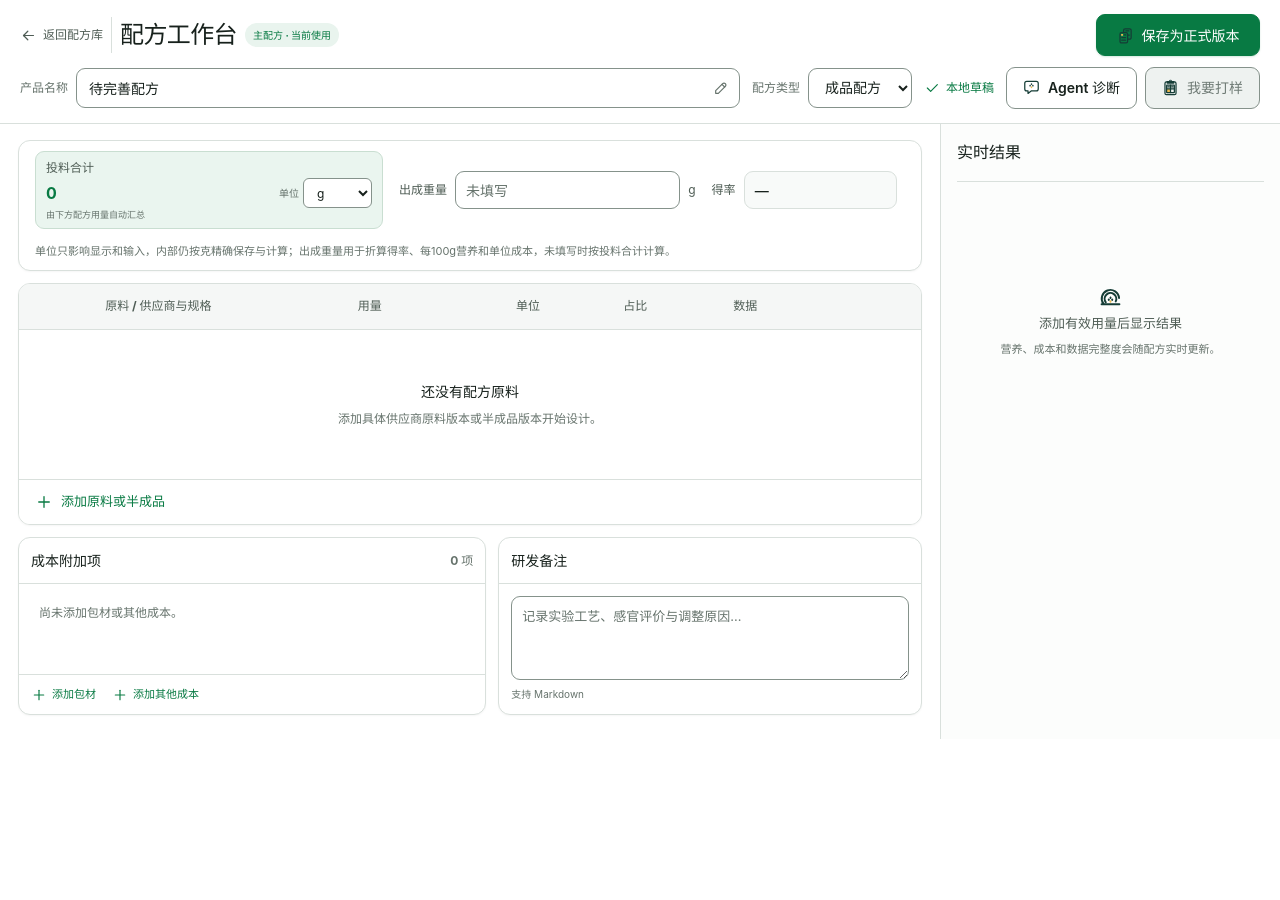
Test case: RecipeWorkbench formal versions › keeps an incomplete draft editable and explains every blocking issue
Expected: the field showing "待完善配方" is shown, [76,68,740,108]
Click the button "保存为正式版本": point(1178, 35) [1096,14,1260,56]
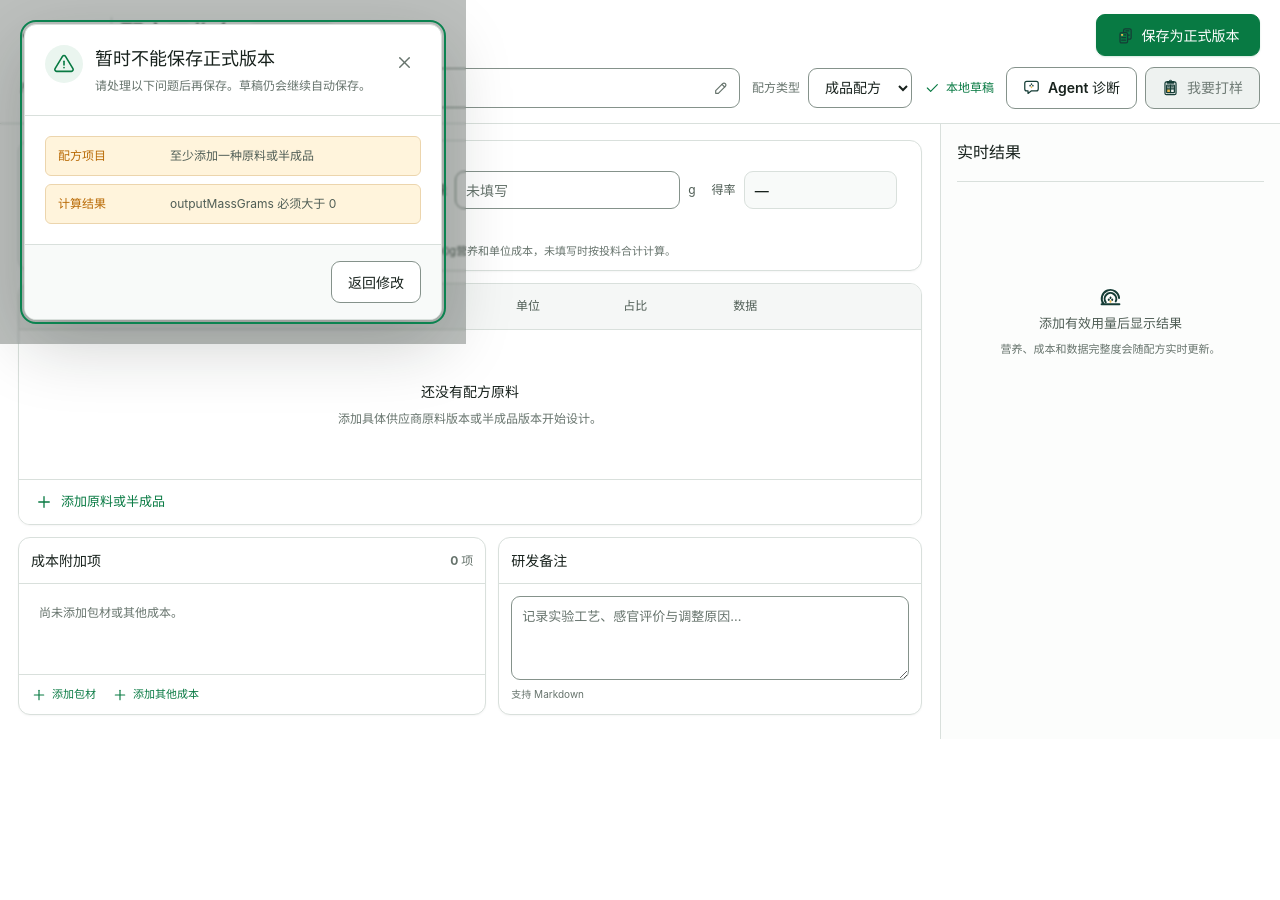
Result: the text "至少添加一种原料或半成品" is shown at [170,148,314,163]
